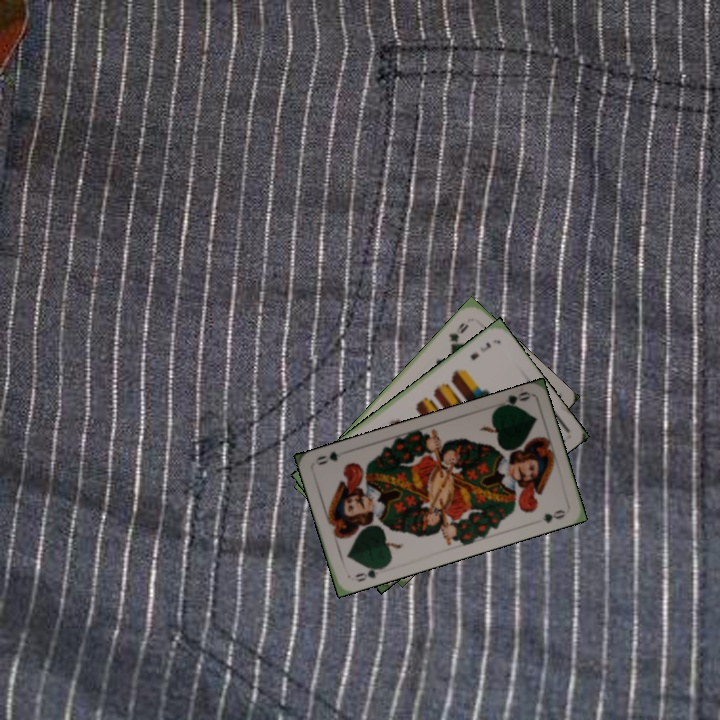E7: (466, 338, 494, 363)
G9: (444, 318, 472, 351)
GO: (493, 387, 532, 412), (350, 562, 387, 585)
